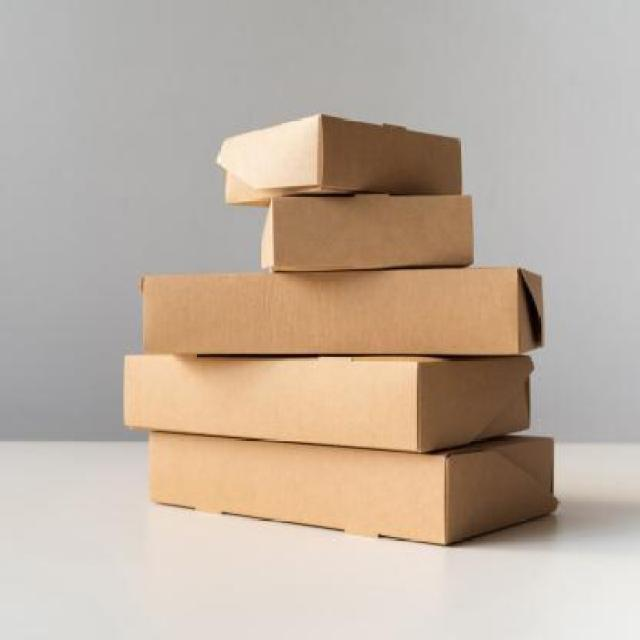BoxFace: (146, 432, 448, 550), (140, 266, 520, 357), (123, 353, 420, 453), (267, 193, 473, 270), (319, 112, 464, 192)
